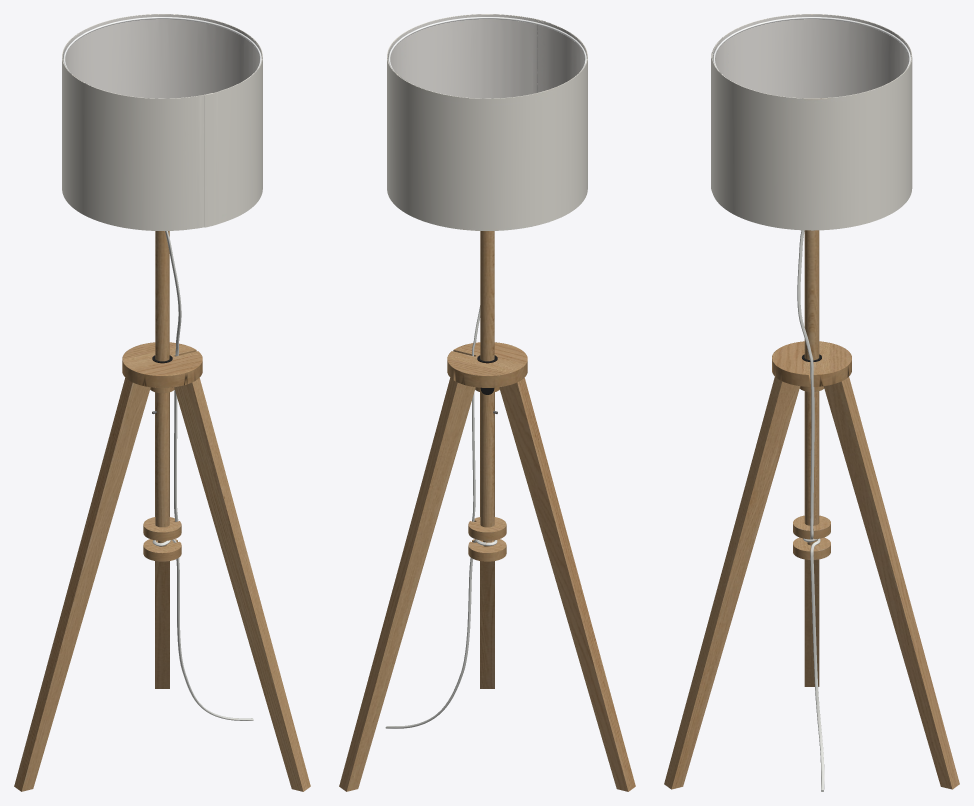
Rendered from 11 - LAUTERS Floor lamp - ashwhite.glb.
The picture shows the model from 3 angles, left to right: view 1: azimuth 30°, elevation 25°; view 2: azimuth 150°, elevation 25°; view 3: azimuth 270°, elevation 25°; orthographic projection.
Parts seen in each view (by area): view 1: 30405042-LAUTERS001; view 2: 30405042-LAUTERS001; view 3: 30405042-LAUTERS001.
Boxes of the visible parts, x1=… form: 30405042-LAUTERS001: x1=14, y1=14, x2=310, y2=791; 30405042-LAUTERS001: x1=339, y1=14, x2=635, y2=791; 30405042-LAUTERS001: x1=664, y1=14, x2=959, y2=791.
Bounding box in the file's own units: 0.5169 × 1.43 × 0.5527.
1 material, 1 textured.
